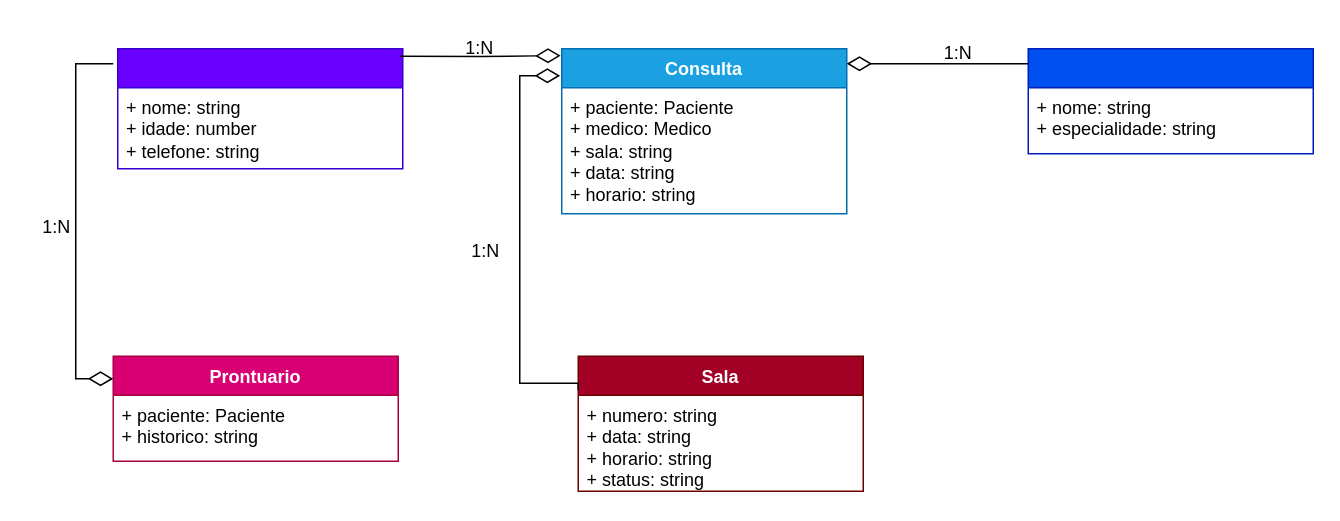
Some shapes in this 1340 by 521 pixel diagram are drawn without their labels. Each missing label, with the box of its shape:
Medico: (1027, 47, 1313, 154)
Paciente: (116, 47, 403, 169)
